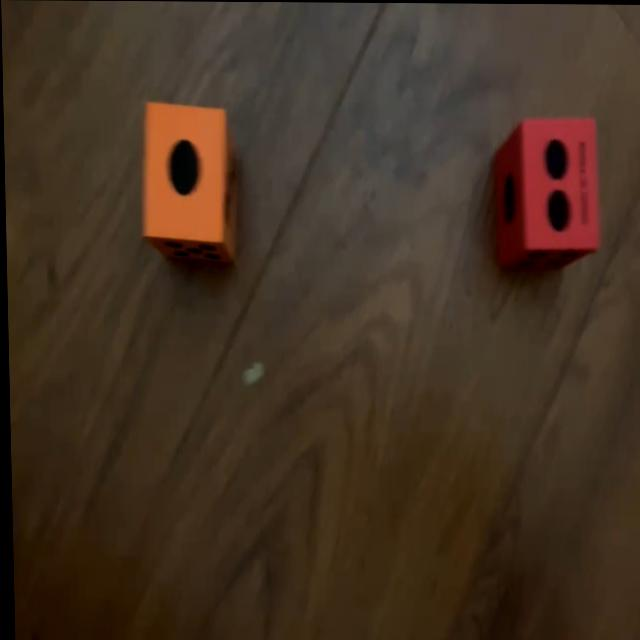red_block: (492, 113, 599, 271)
